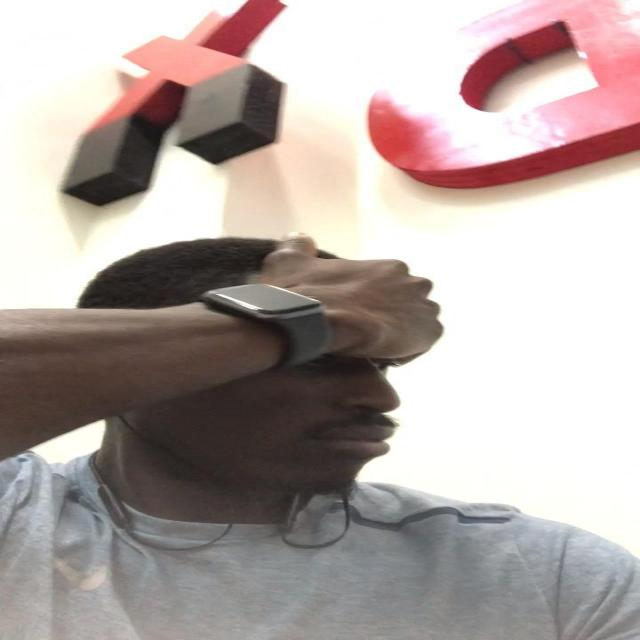face: (135, 292, 401, 499)
